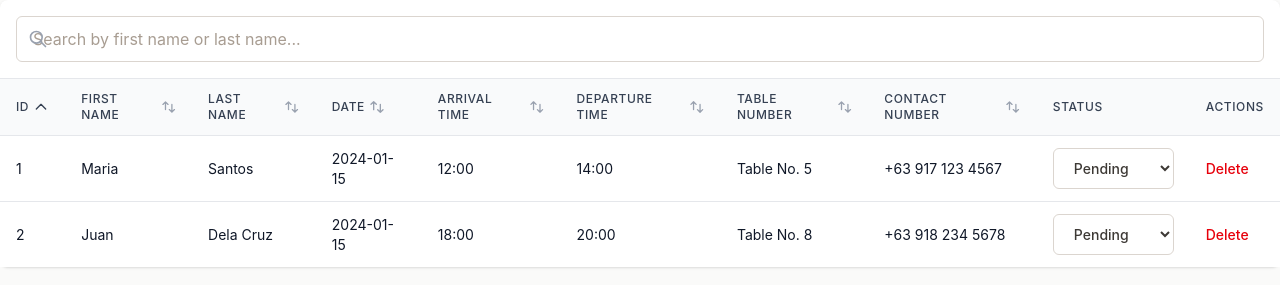
Test: ReservationTable › should filter reservations by search query
Type "Maria" into the field with placeholder "Search by first name or last name..." at x=640, y=39, box [16,16,1264,62]
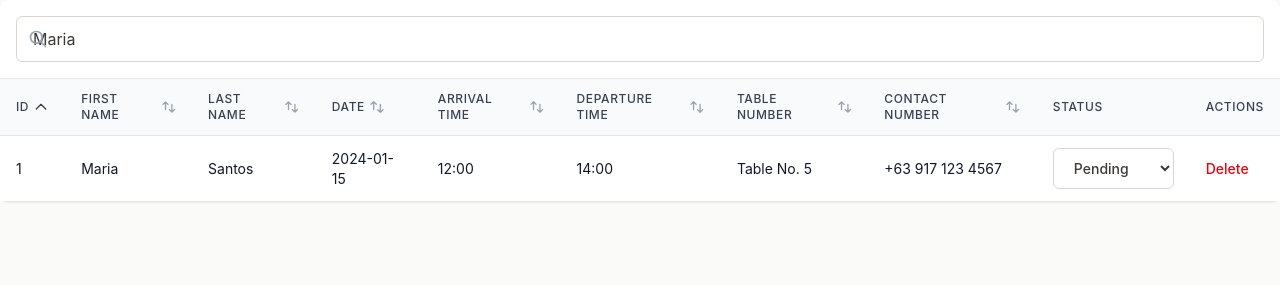
Expected: the text "Maria" is shown, [65,136,192,201]
Expected: the text "Juan" is gone
